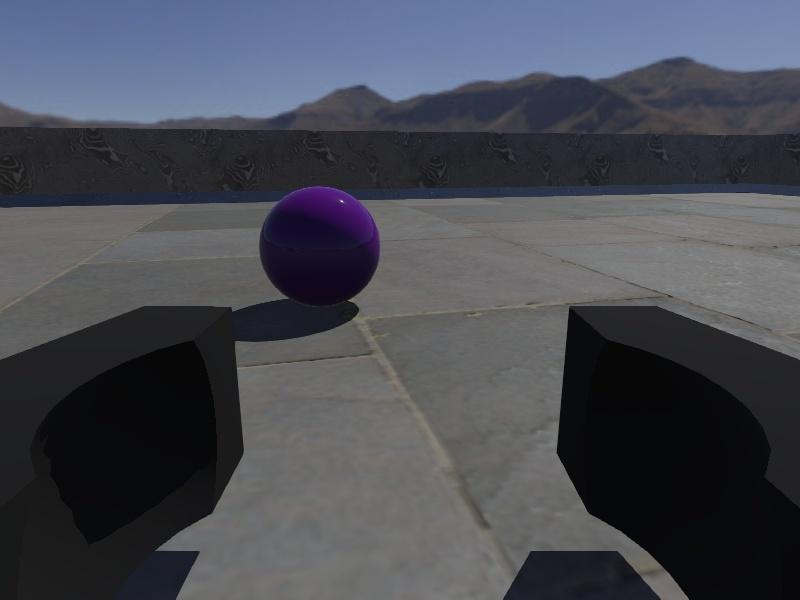violet ball: (258, 186, 382, 308)
